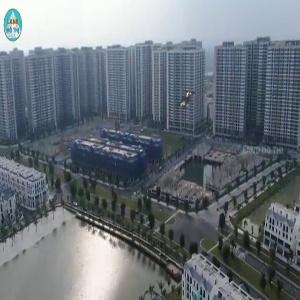drone: (162, 74, 216, 128)
